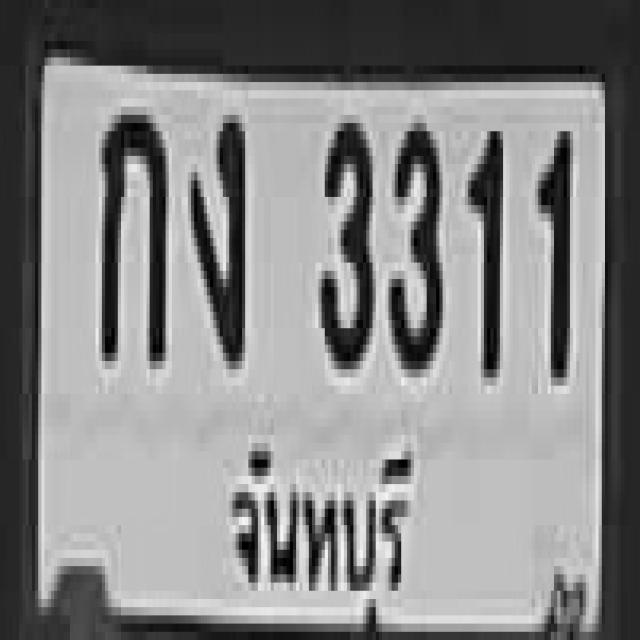1: (460, 94, 520, 442), (532, 108, 591, 423)
10GorGai: (99, 78, 171, 412)
16NgorNgu: (180, 86, 268, 399)
3: (315, 88, 374, 392), (385, 108, 445, 392)
Chanthaburi: (210, 406, 418, 628)
